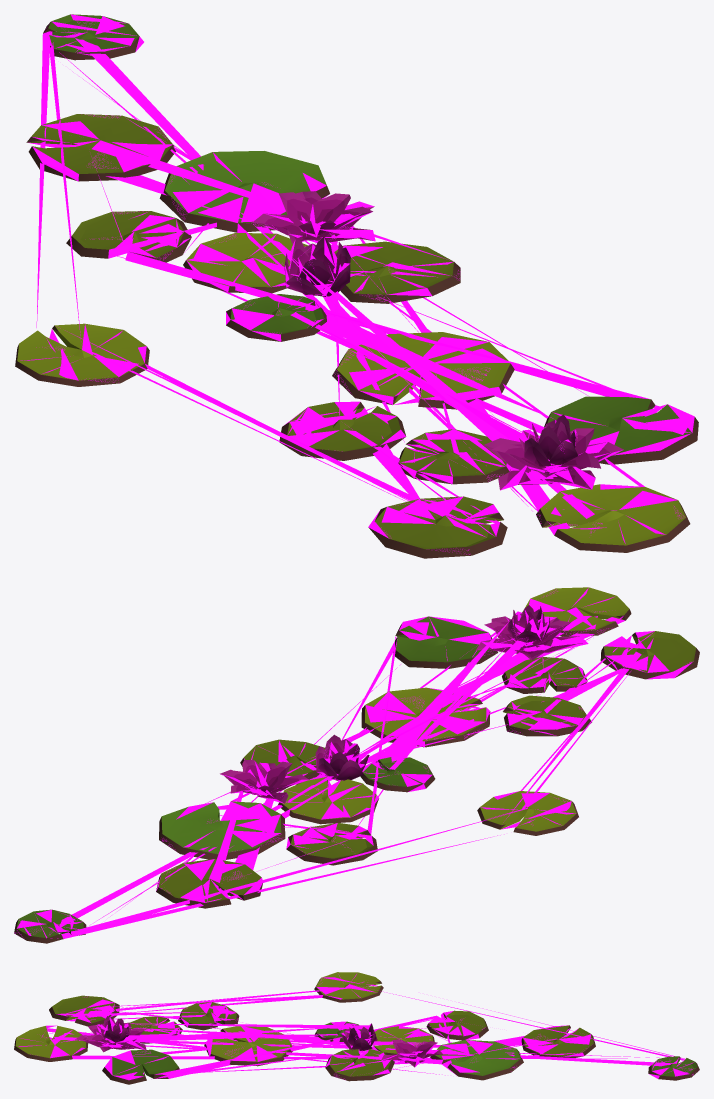
Rendered from SM_Env_Lillies_03.glb.
The picture shows the model from 3 angles, top to bottom: view 1: azimuth 30°, elevation 25°; view 2: azimuth 150°, elevation 25°; view 3: azimuth 270°, elevation 25°; orthographic projection. The views are drawn at different scales.
Parts seen in each view (by area): view 1: SM_Env_Lillies_03; view 2: SM_Env_Lillies_03; view 3: SM_Env_Lillies_03.
Part boxes in pixels (bbox=[...]): SM_Env_Lillies_03: bbox=[15, 14, 698, 558]; SM_Env_Lillies_03: bbox=[14, 587, 699, 943]; SM_Env_Lillies_03: bbox=[14, 972, 699, 1084].
Size of the model in its own units: 1.54 by 0.1969 by 4.03.
Materials: 2 (1 with a texture image).
